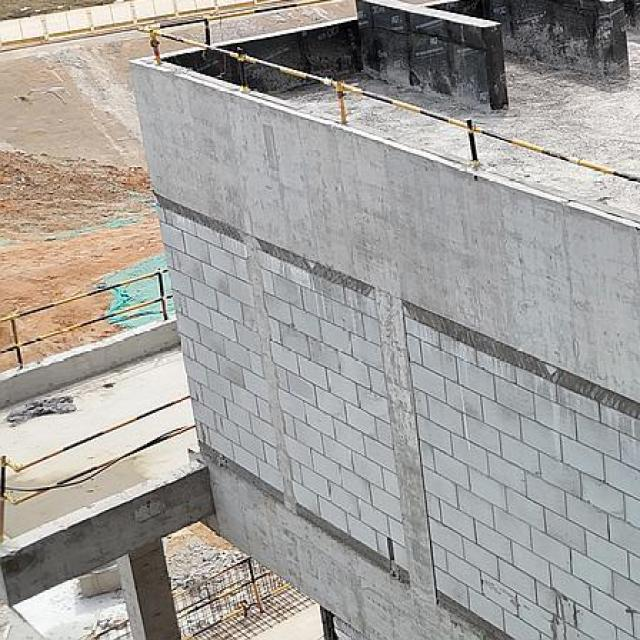edge_guardrail: (141, 0, 640, 189), (0, 394, 196, 545), (0, 267, 179, 370), (172, 554, 292, 640), (89, 618, 130, 640)
